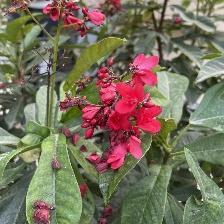jatropha: (112, 75, 148, 119), (136, 103, 166, 135)
